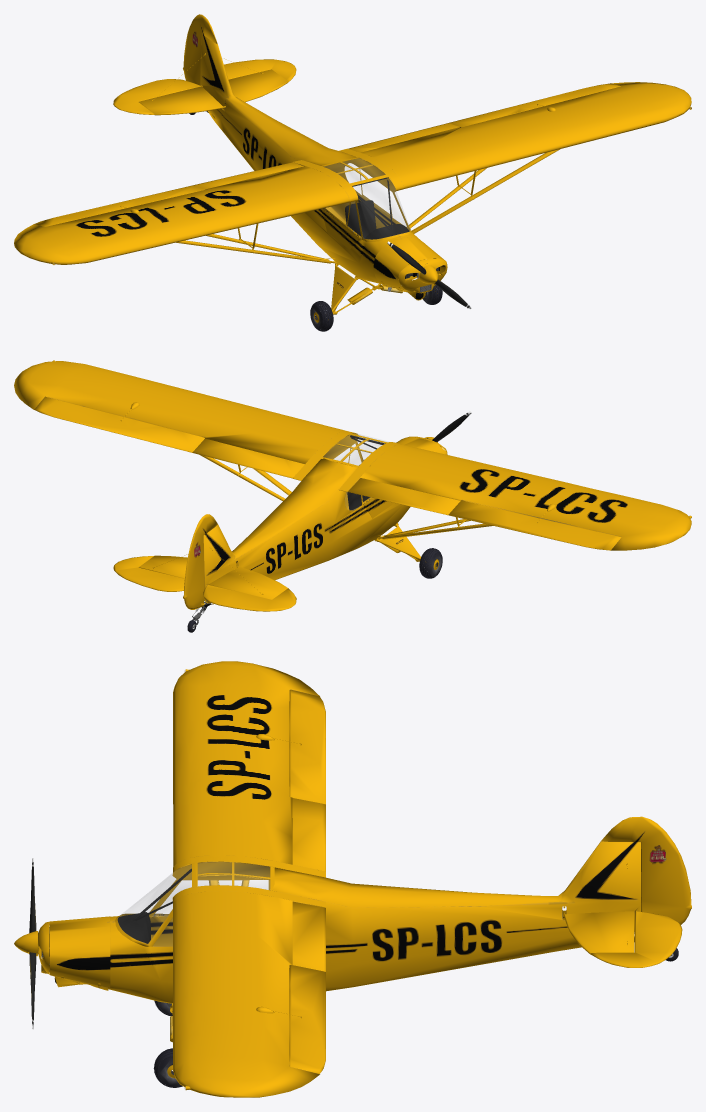
3 renders of one model, top to bottom at view 1: azimuth 30°, elevation 25°; view 2: azimuth 150°, elevation 25°; view 3: azimuth 270°, elevation 25°, orthographic. The views are drawn at different scales.
Parts seen in each view (by area): view 1: fuselage02_Mesh.003; view 2: fuselage02_Mesh.003; view 3: fuselage02_Mesh.003.
Boxes of the visible parts, x1,y1,x2,y2 form: fuselage02_Mesh.003: (14, 14, 691, 331); fuselage02_Mesh.003: (14, 360, 691, 632); fuselage02_Mesh.003: (14, 661, 691, 1097).
Bounding box in the file's own units: 21.4 × 5.38 × 14.1.
